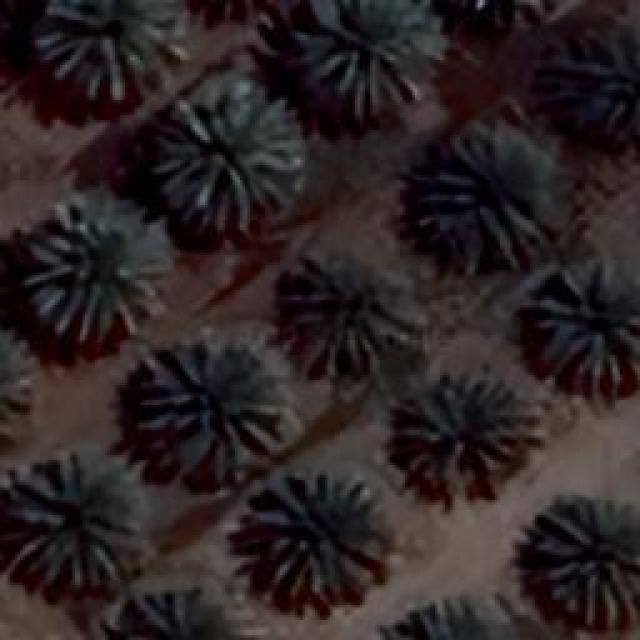PalmTree: (150, 82, 302, 236), (18, 202, 172, 348), (134, 335, 288, 480), (242, 470, 388, 608), (83, 96, 596, 133), (2, 455, 140, 590), (395, 372, 540, 498), (420, 128, 548, 262), (17, 133, 83, 389), (280, 255, 420, 375), (34, 0, 187, 102), (298, 0, 420, 118), (530, 260, 635, 395), (530, 498, 635, 628), (125, 592, 247, 638), (380, 595, 508, 635), (434, 0, 564, 24), (174, 0, 302, 18)
